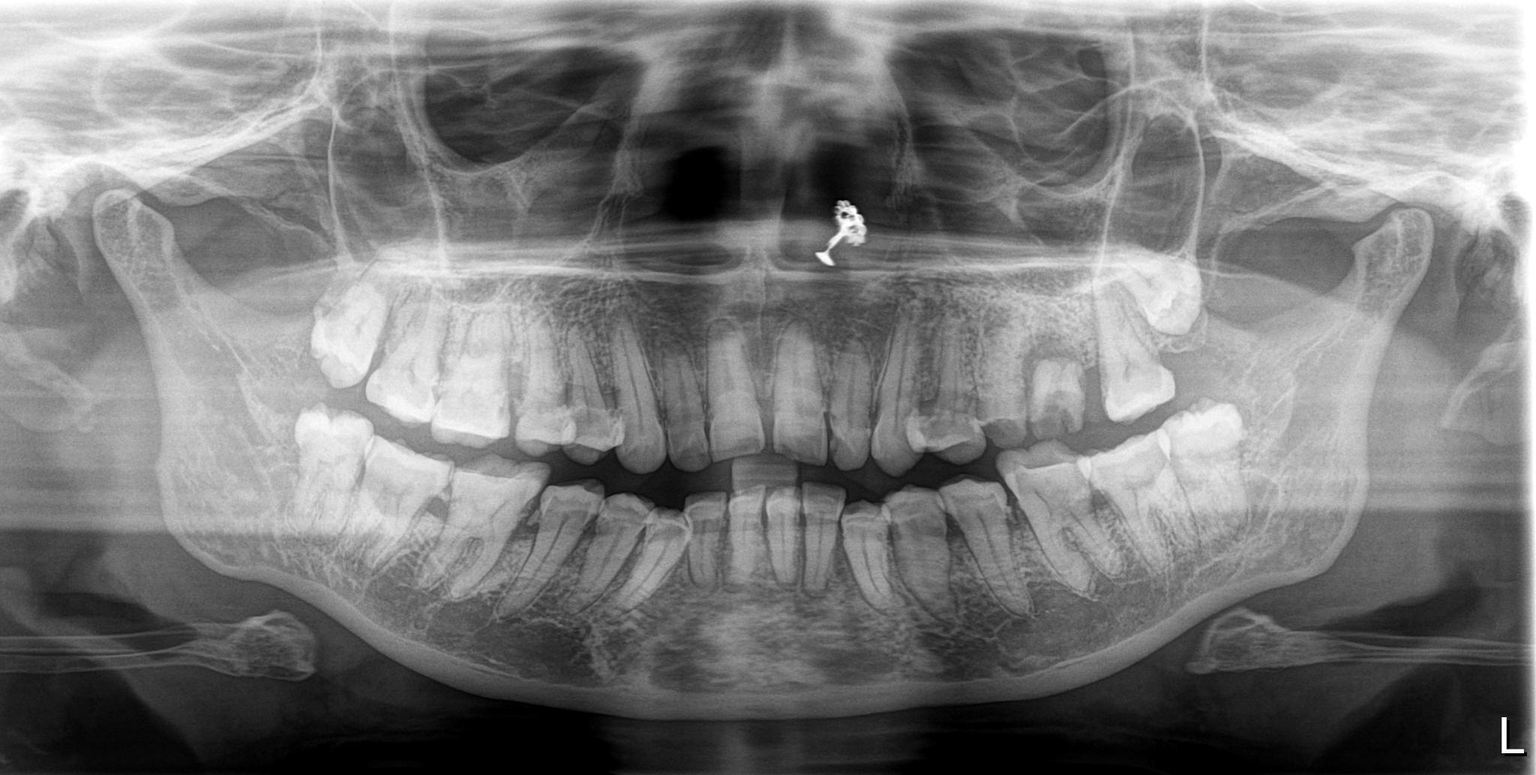Impacted Third Molar: (1121, 248, 1216, 343)
